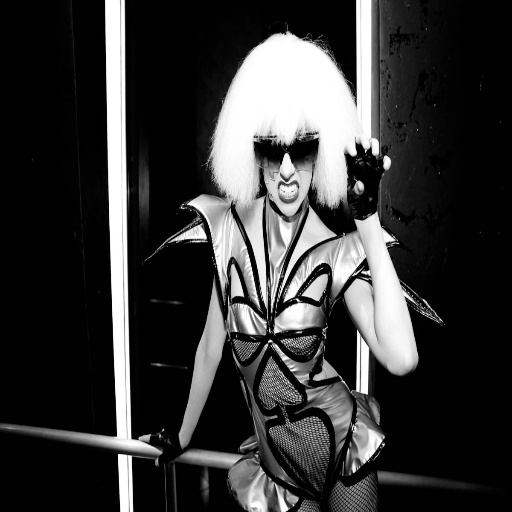hand: (345, 130, 390, 240), (137, 426, 180, 467)
